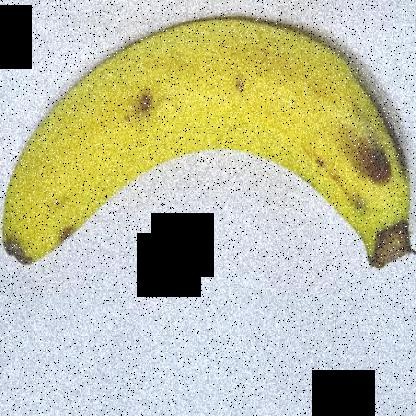freshripe: (0, 1, 415, 305)
